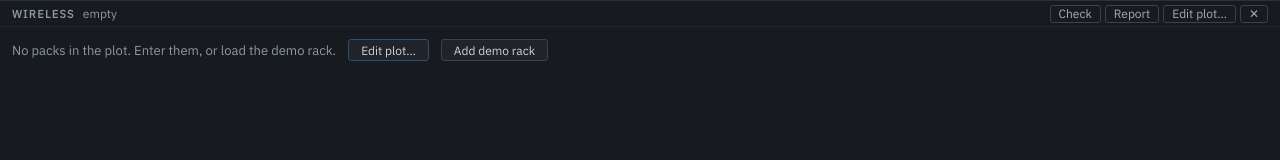
Test: RfPanel › the check › says there is nothing to check for an empty rack, rather than that it is ready
Click the button with class "rf-btn" showing "Check" at (1075,14), box 1050,4 -> 1101,22
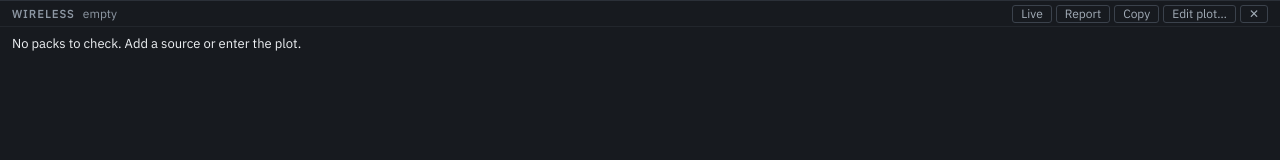
Result: the text with class "rf-check-verdict" reads "No packs to check. Add a source or enter the plot." at 12,35 -> 301,52
